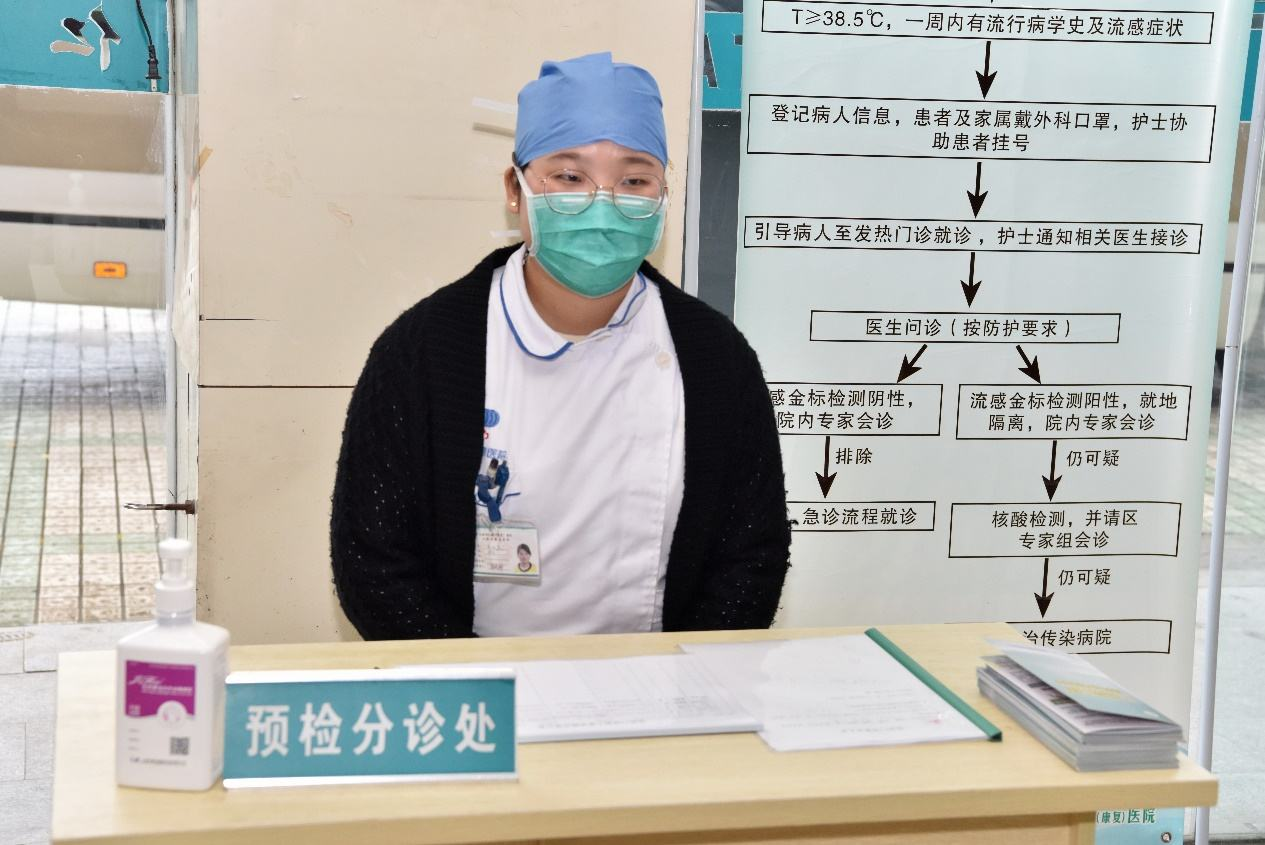Mask: (511, 132, 670, 298)
